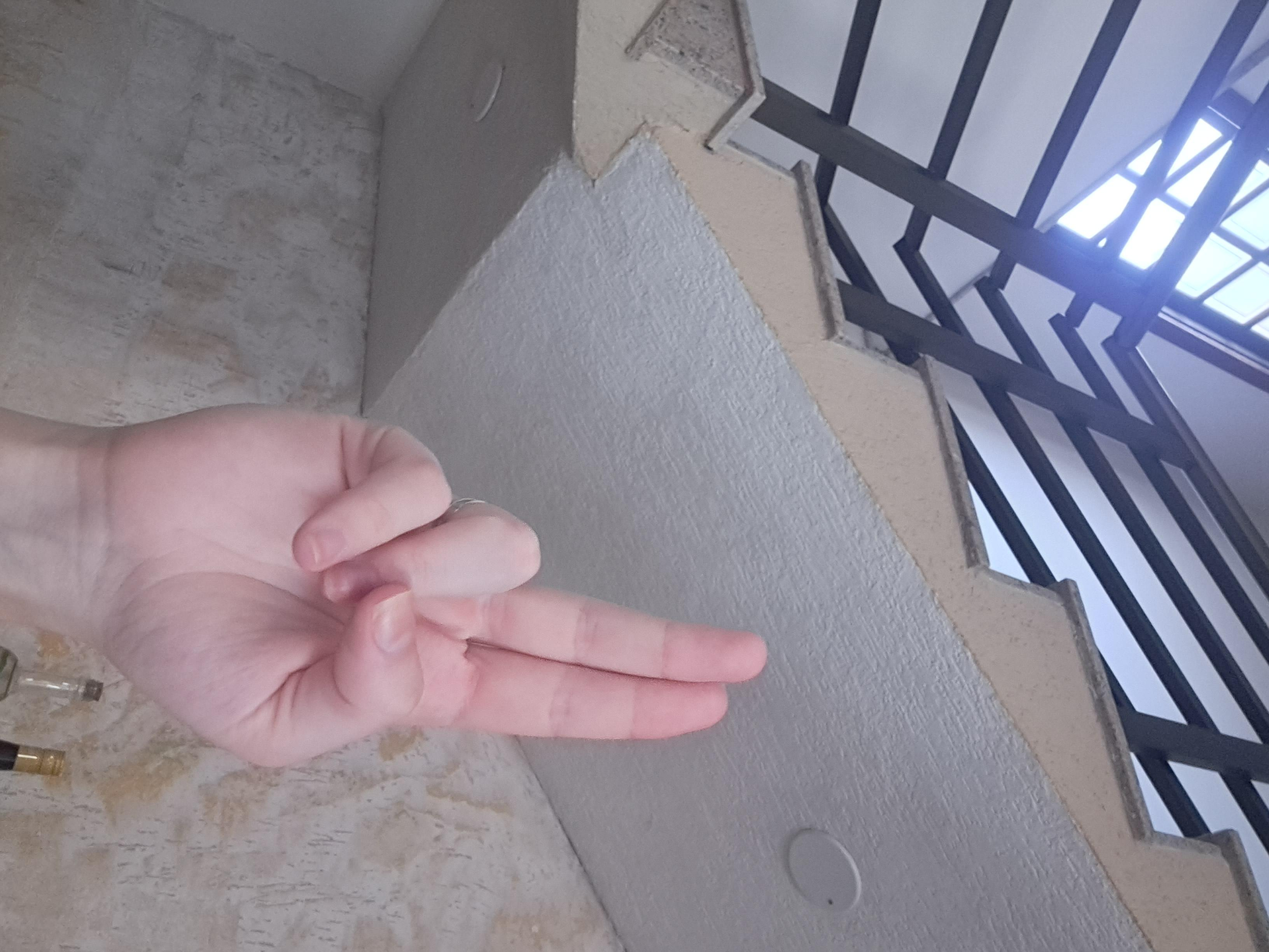U: (518, 370, 1037, 869)
